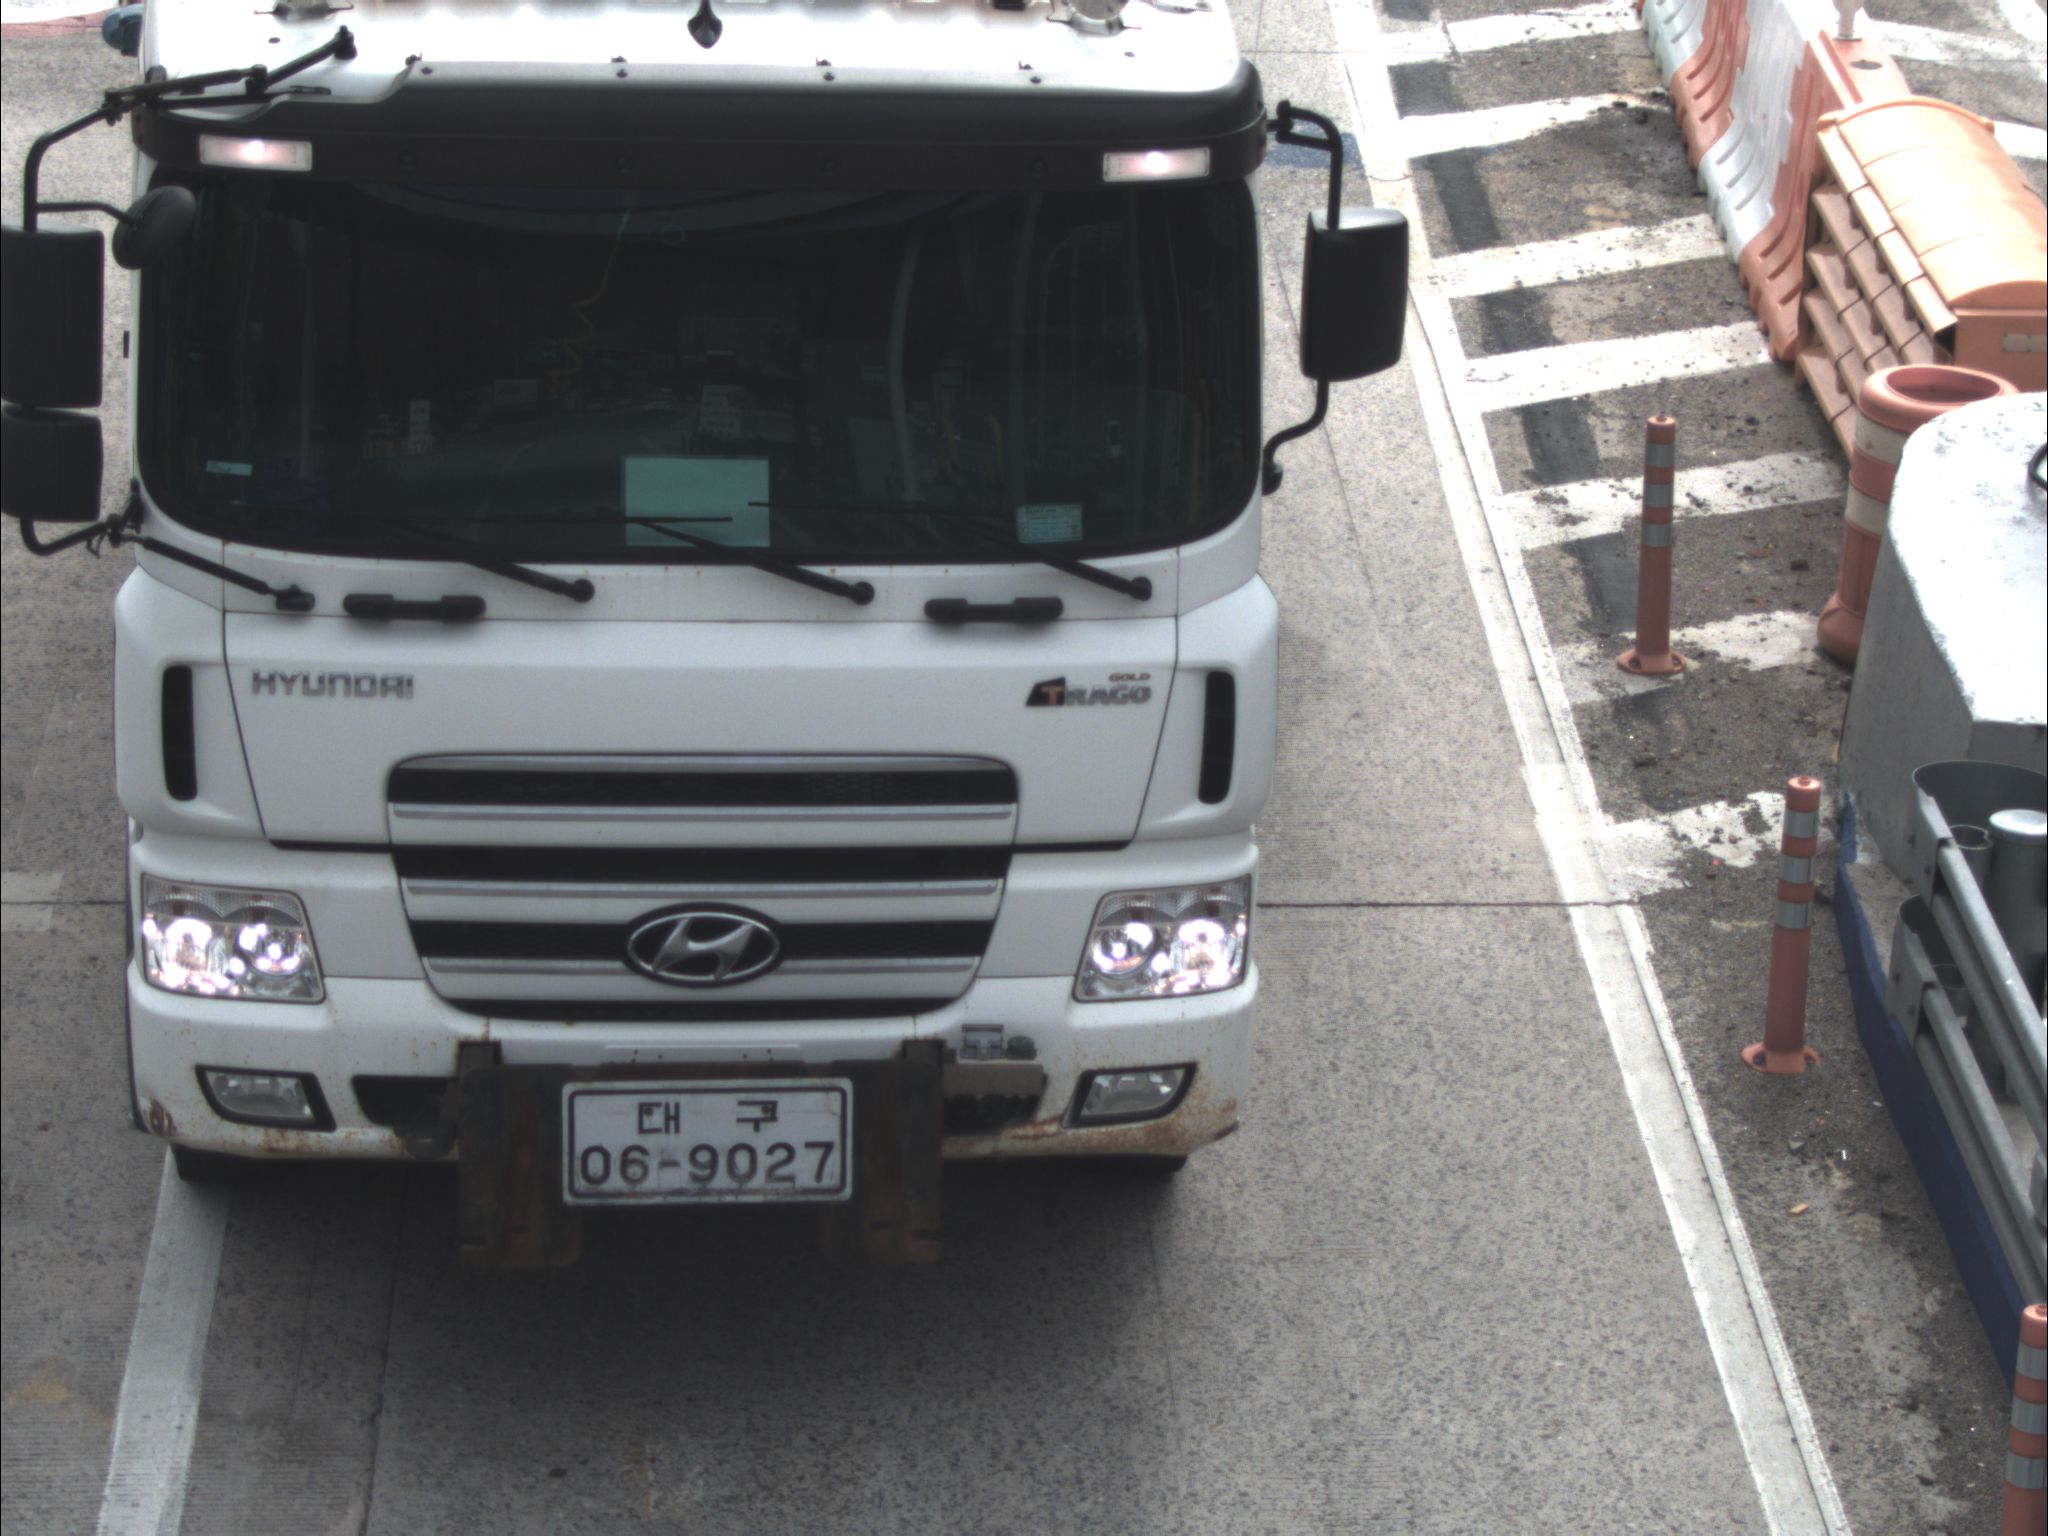car: (1, 1, 1414, 1274)
plate: (553, 1072, 853, 1209)
